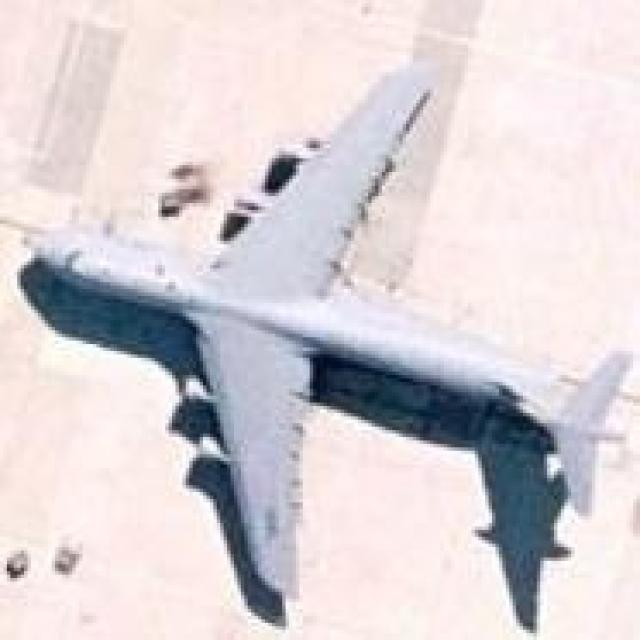C-5_TopDown: (10, 52, 633, 633)
